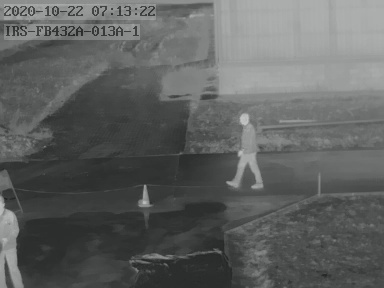person: (227, 113, 265, 189), (1, 195, 22, 288)
